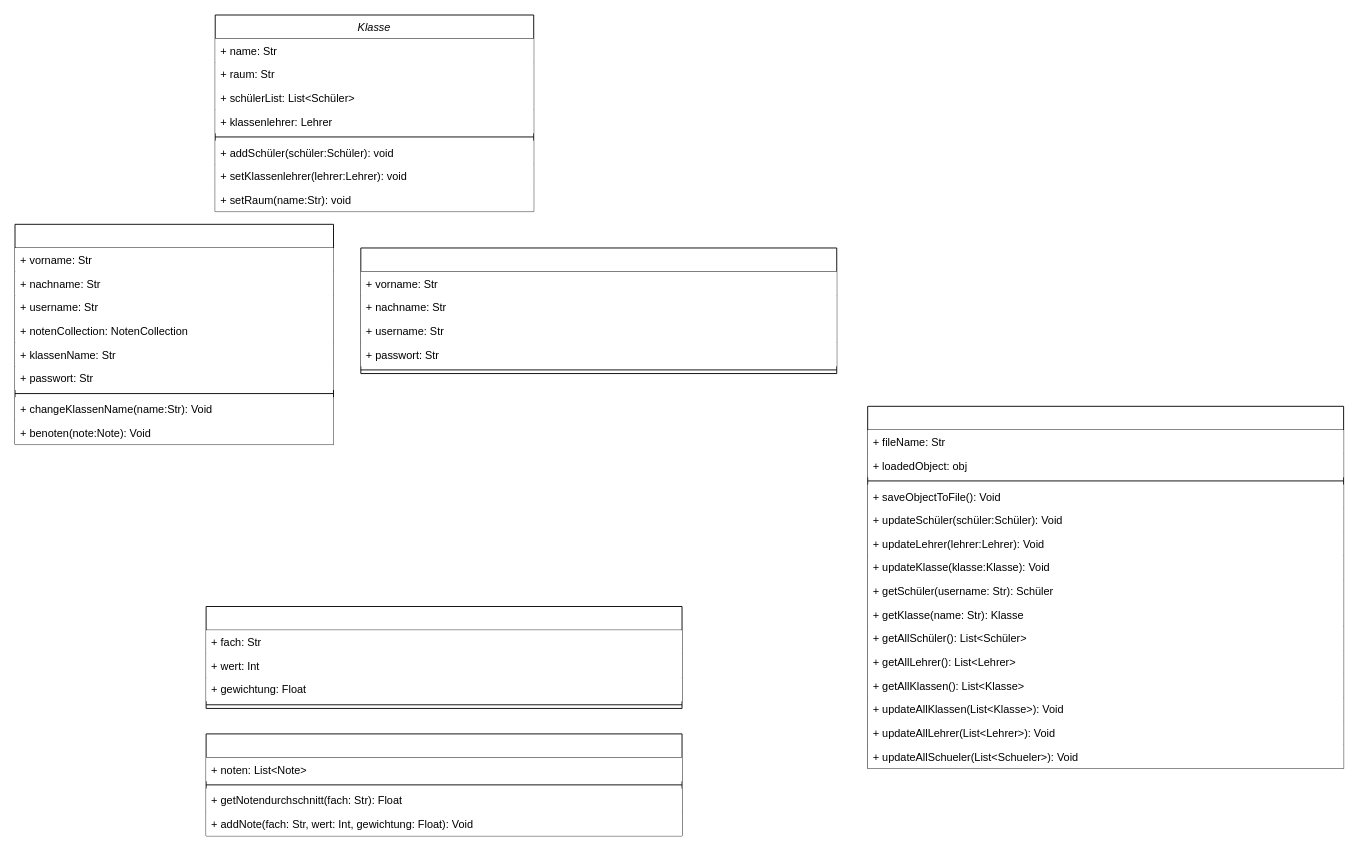
Some shapes in this 1359 by 851 pixel diagram are drawn without their labels. The box of each missing label's shape, as (x1, y1, x2, y2) in pixels:
Lehrer: (360, 247, 837, 374)
Note: (205, 606, 682, 708)
NotenCollection: (205, 733, 682, 836)
NvsJsonController: (867, 405, 1344, 768)
Schüler: (14, 223, 334, 445)
